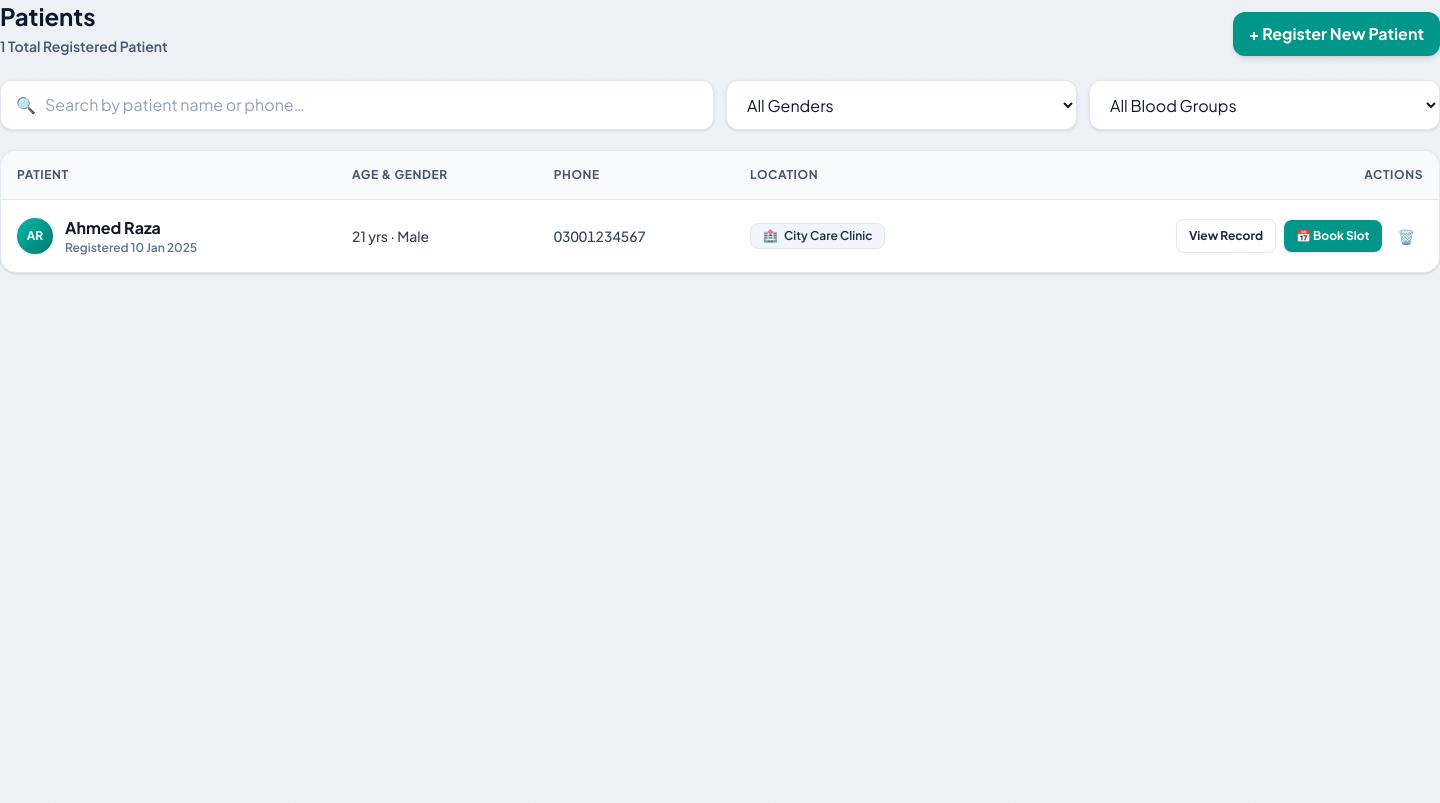
Scenario: PatientsPage ↔ PatientDetailPage location sync › updates the LOCATION badge in the table without a reload
The image size is (1440, 803).
Expected: the text "City Care Clinic" is shown, [784, 228, 872, 244]
Click the text "Ahmed Raza" at (113, 228), box [65, 217, 161, 238]
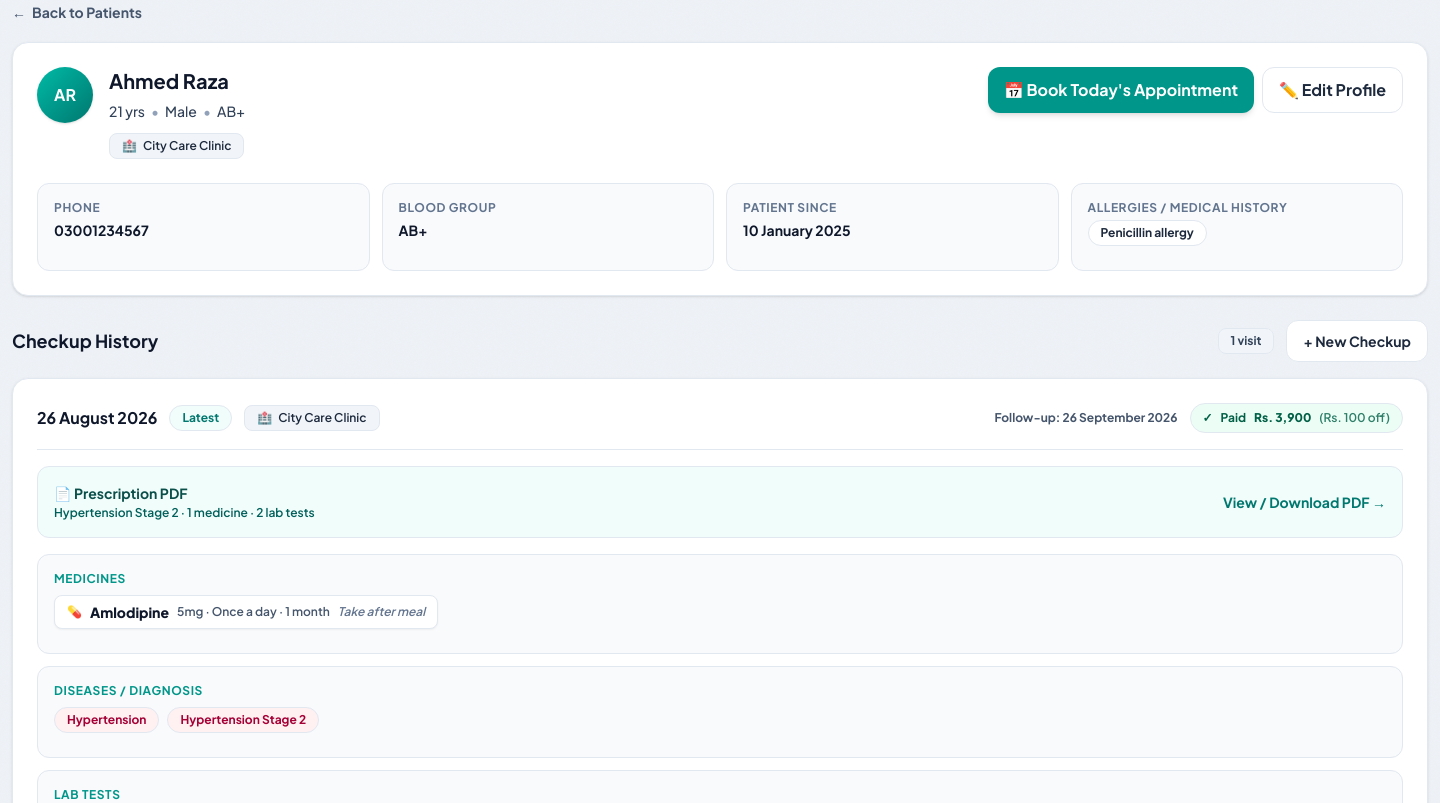
Expected: the heading "Ahmed Raza" is shown, [109, 67, 245, 95]
Click the button "✏️ Edit Profile" at (1332, 90), box [1262, 67, 1403, 113]
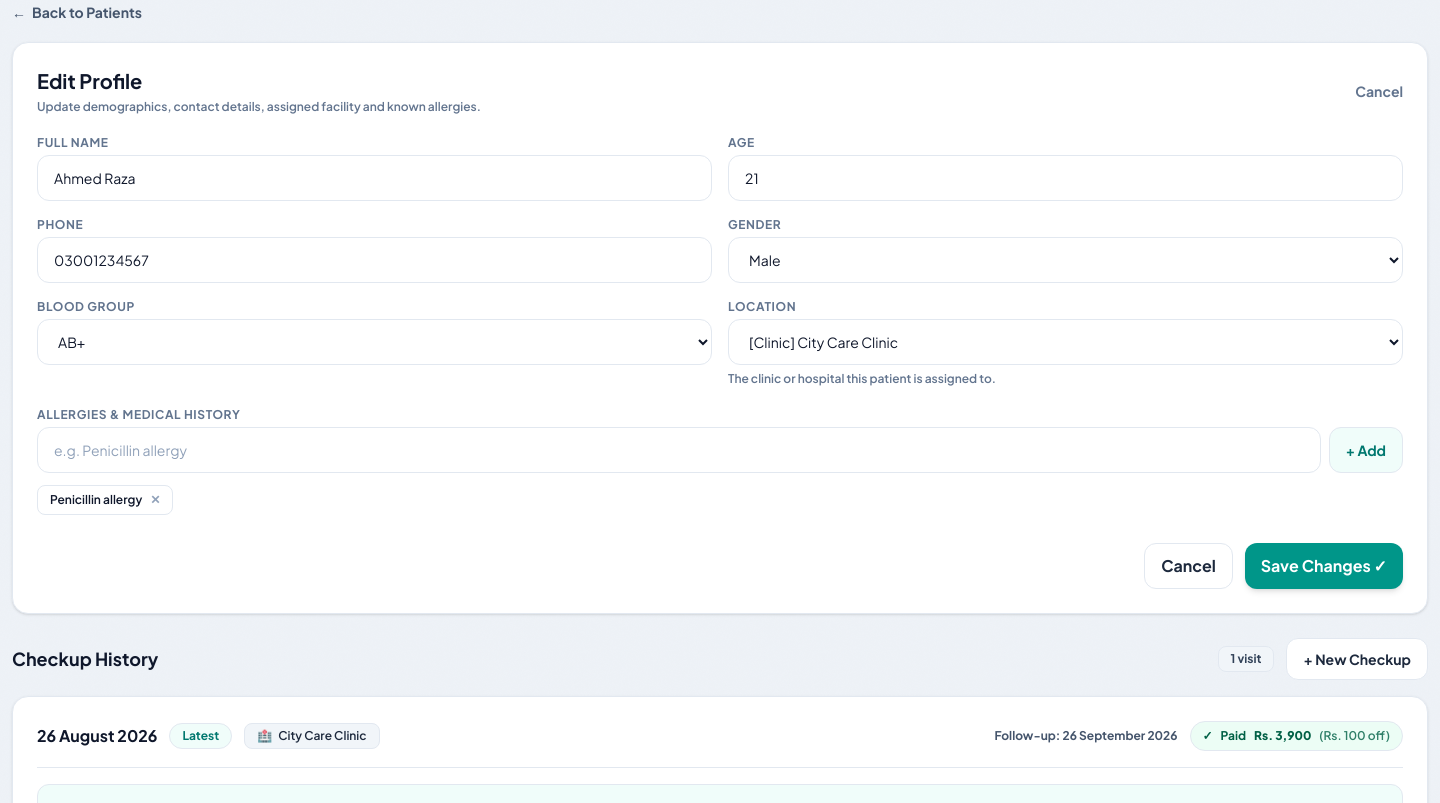
Select "Unassigned (—)" in the dropdown labelled "Location" at (1066, 342), box [728, 319, 1403, 365]
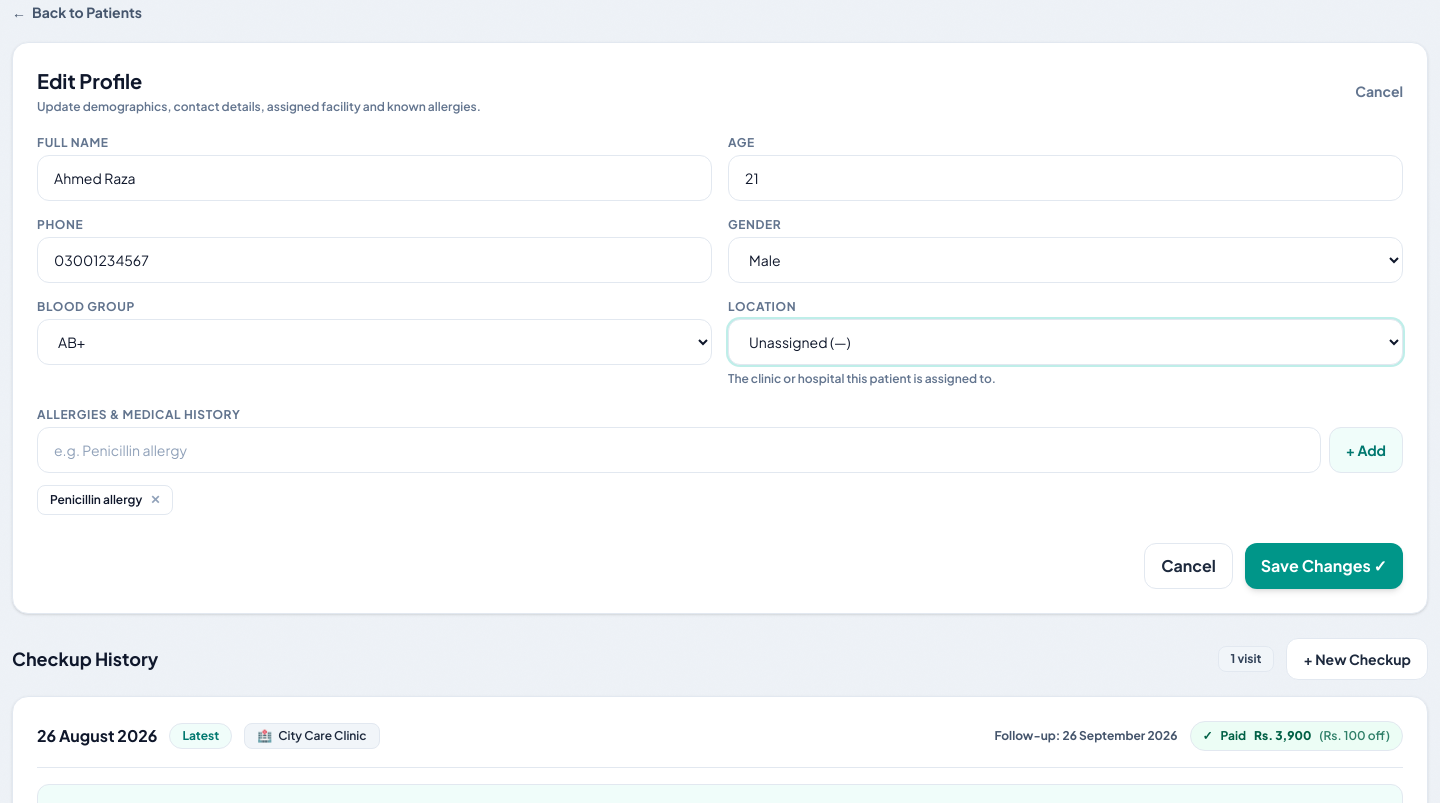
Click the button "Save Changes ✓" at (1324, 566), box [1245, 543, 1403, 589]
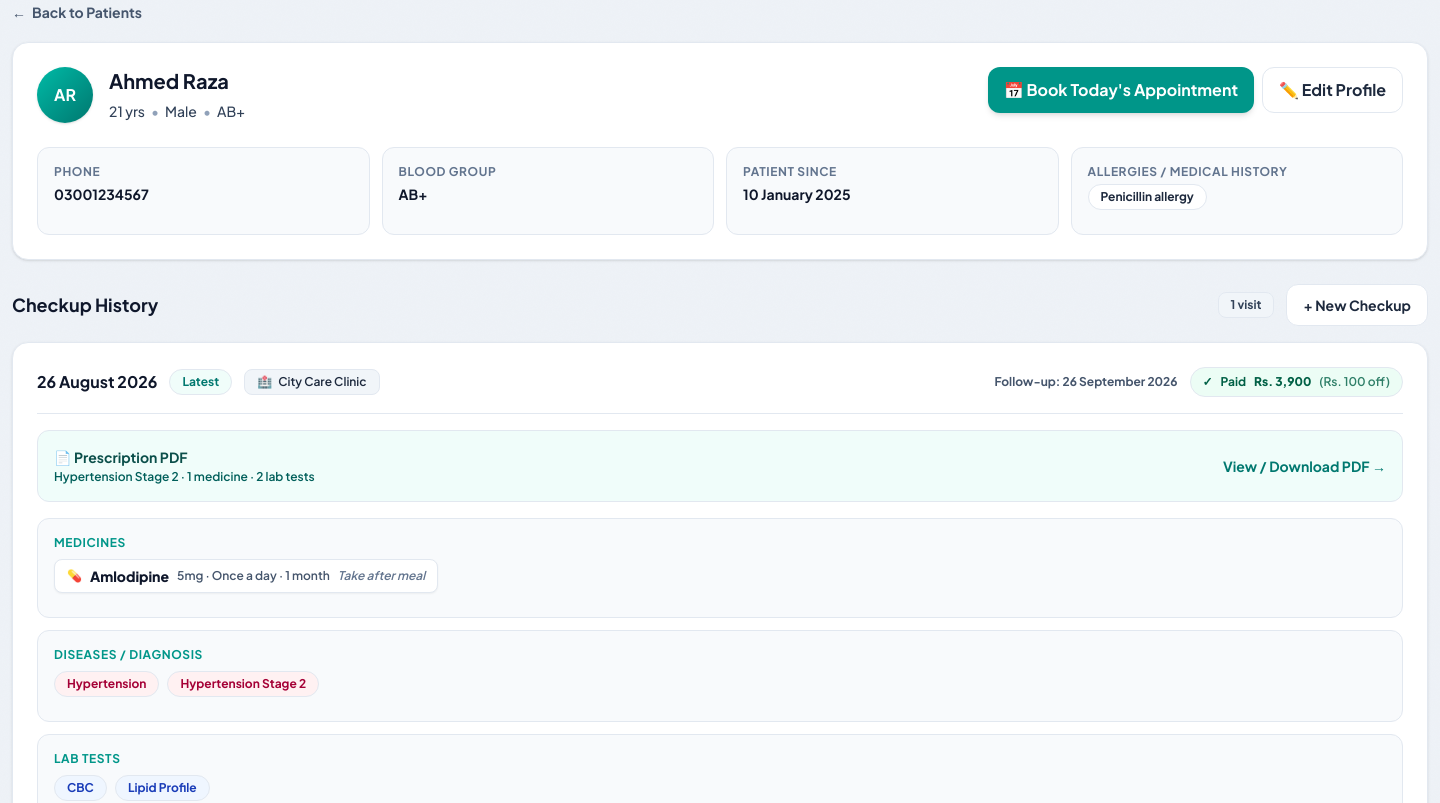
Now the button "📅 Book Today's Appointment" is shown, box [988, 67, 1254, 113]
Click the button "← Back to Patients" at (77, 12), box [12, 2, 142, 22]
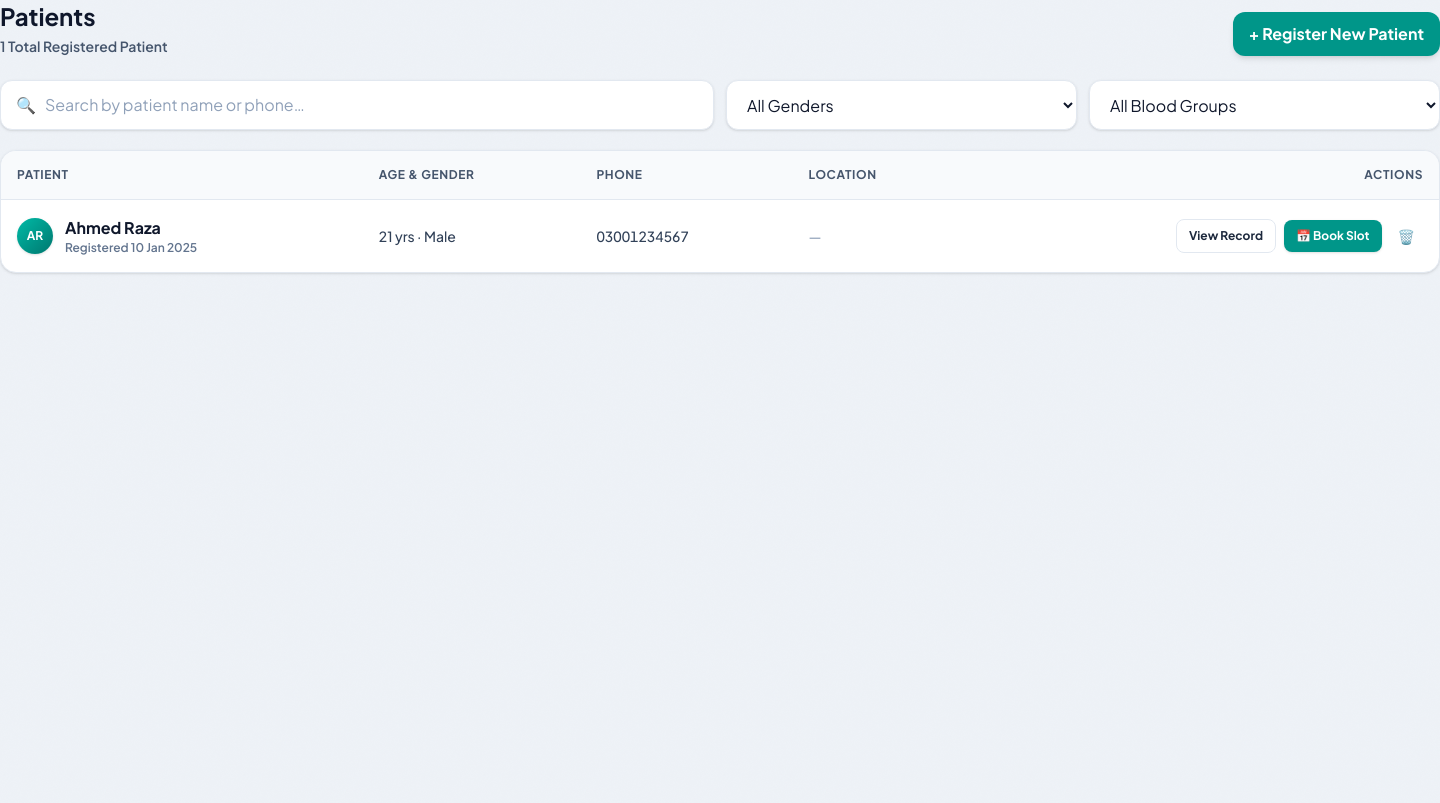
Now the button "+ Register New Patient" is shown, box [1233, 12, 1439, 56]
Now the text "—" is shown, box [808, 226, 822, 246]
